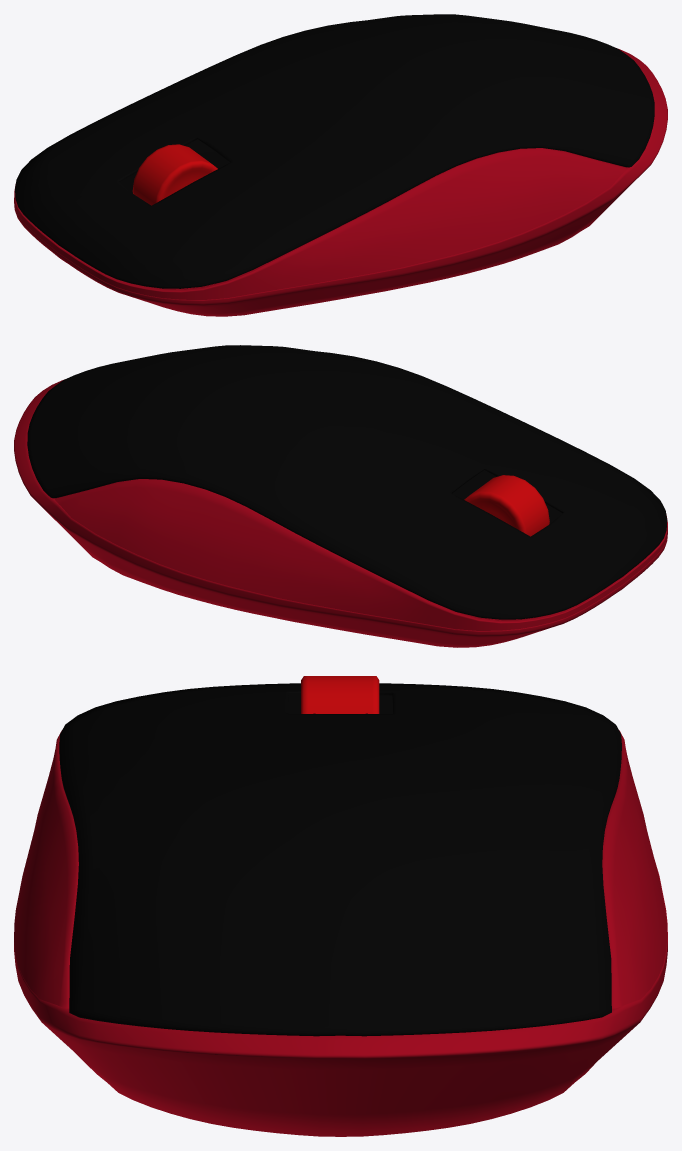
The model's file is mouse.fbx.
3 renders of one model, top to bottom at view 1: azimuth 30°, elevation 25°; view 2: azimuth 150°, elevation 25°; view 3: azimuth 270°, elevation 25°, orthographic. The views are drawn at different scales.
Parts seen in each view (by area): view 1: mouse; view 2: mouse; view 3: mouse.
Boxes of the visible parts, x1,y1,x2,y2 form: mouse: [14, 14, 667, 316]; mouse: [14, 345, 667, 647]; mouse: [14, 676, 667, 1136].
Size of the model in its own units: 10.91 by 2.57 by 6.9.
